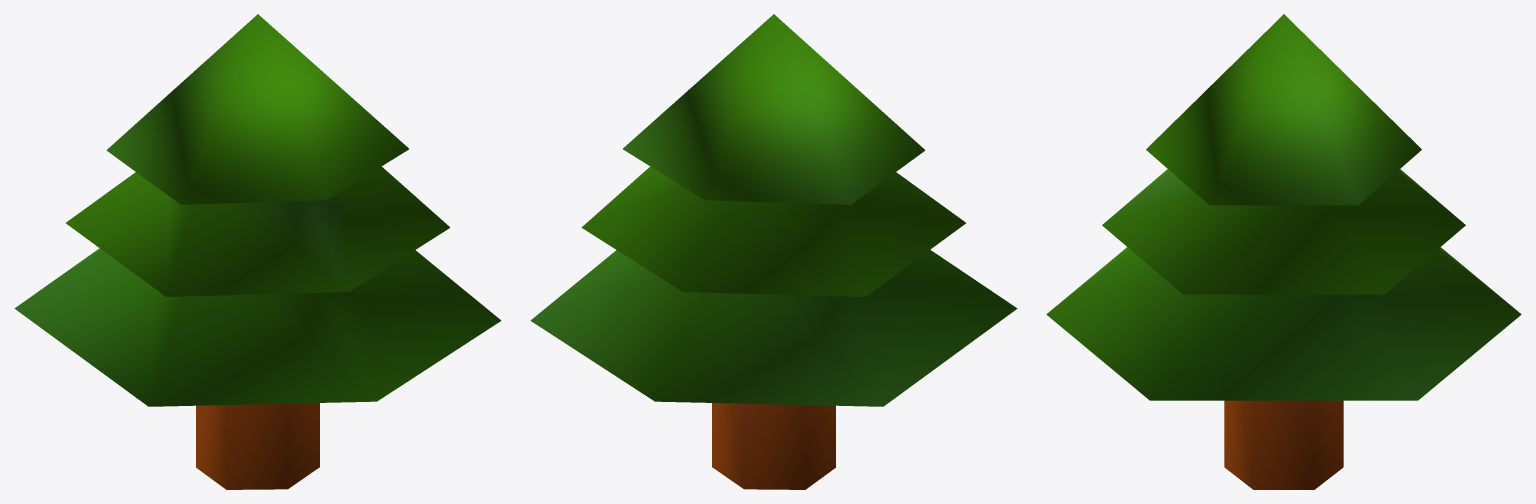
The model's file is tree1_smooth.gltf.
The picture shows the model from 3 angles, left to right: view 1: azimuth 30°, elevation 25°; view 2: azimuth 150°, elevation 25°; view 3: azimuth 270°, elevation 25°; orthographic projection.
Visible parts, largest first — view 1: Cube; view 2: Cube; view 3: Cube.
Boxes of the visible parts, x1,y1,x2,y2 form: Cube: (14, 14, 501, 489); Cube: (530, 14, 1017, 489); Cube: (1046, 14, 1521, 489).
Bounding box in the file's own units: 3.49 × 4.29 × 4.08.
